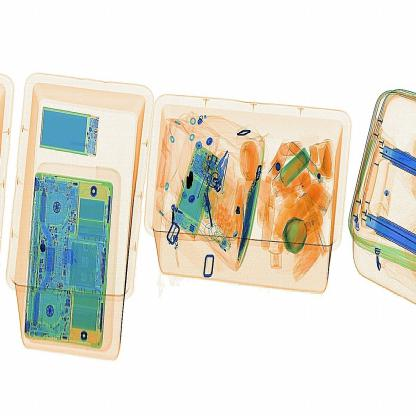knife: (179, 164, 200, 201)
